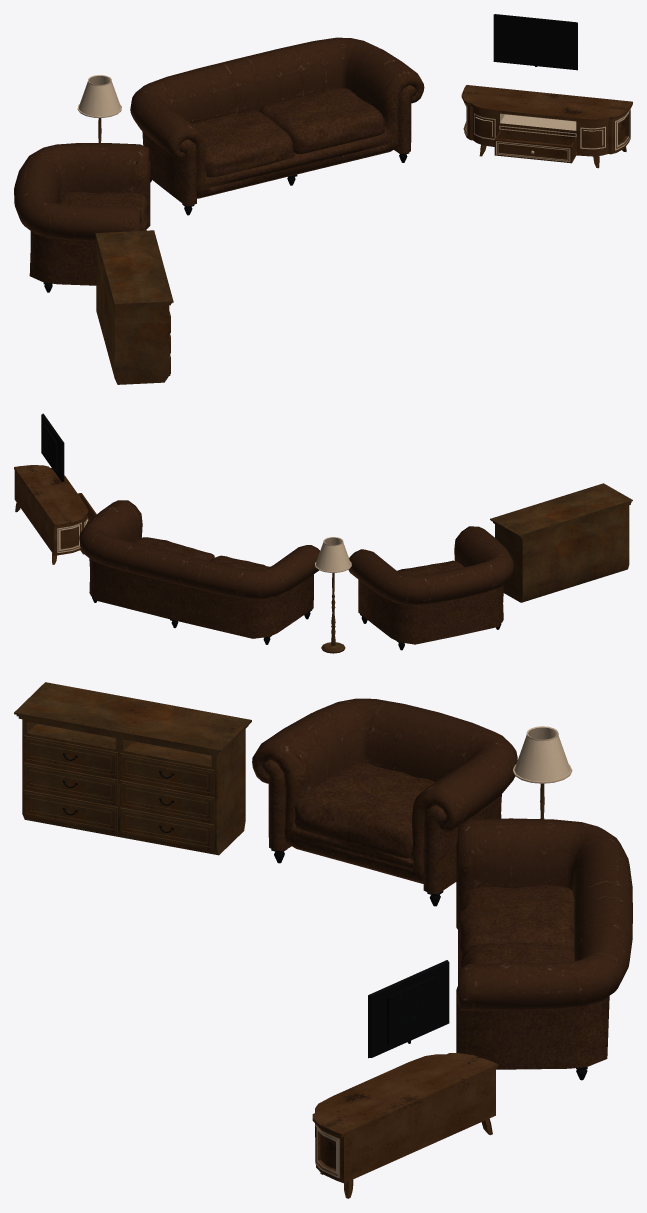
Rendered from Item_Set.glb.
The picture shows the model from 3 angles, top to bottom: view 1: azimuth 30°, elevation 25°; view 2: azimuth 150°, elevation 25°; view 3: azimuth 270°, elevation 25°; orthographic projection. The views are drawn at different scales.
Parts seen in each view (by area): view 1: SM_Koltuk_1, SM_Koltuk_2, SM_Tv_Unitesi, SM_Sifonyer, SM_Tv, Cube.544; view 2: SM_Koltuk_1, SM_Koltuk_2, SM_Sifonyer, SM_Tv_Unitesi, Cube.544, SM_Tv; view 3: SM_Koltuk_1, SM_Koltuk_2, SM_Sifonyer, SM_Tv_Unitesi, SM_Tv, Cube.544.
Boxes of the visible parts, box(x1,y1,x2,y2) form: SM_Koltuk_1: box(130, 37, 424, 215); SM_Koltuk_2: box(14, 143, 150, 292); SM_Tv_Unitesi: box(461, 85, 632, 168); SM_Sifonyer: box(95, 230, 173, 384); SM_Tv: box(493, 14, 577, 70); Cube.544: box(77, 75, 121, 142); SM_Koltuk_1: box(79, 500, 319, 644); SM_Koltuk_2: box(348, 526, 514, 650); SM_Sifonyer: box(490, 483, 632, 602); SM_Tv_Unitesi: box(14, 465, 96, 564); Cube.544: box(315, 537, 351, 653); SM_Tv: box(41, 413, 64, 481); SM_Koltuk_1: box(456, 818, 632, 1080); SM_Koltuk_2: box(252, 698, 517, 906); SM_Sifonyer: box(14, 682, 251, 855); SM_Tv_Unitesi: box(312, 1053, 498, 1198); SM_Tv: box(368, 960, 449, 1058); Cube.544: box(513, 726, 572, 819).
Size of the model in its own units: 8.92 by 1.8 by 5.71.
Materials: 1 (1 with a texture image).
